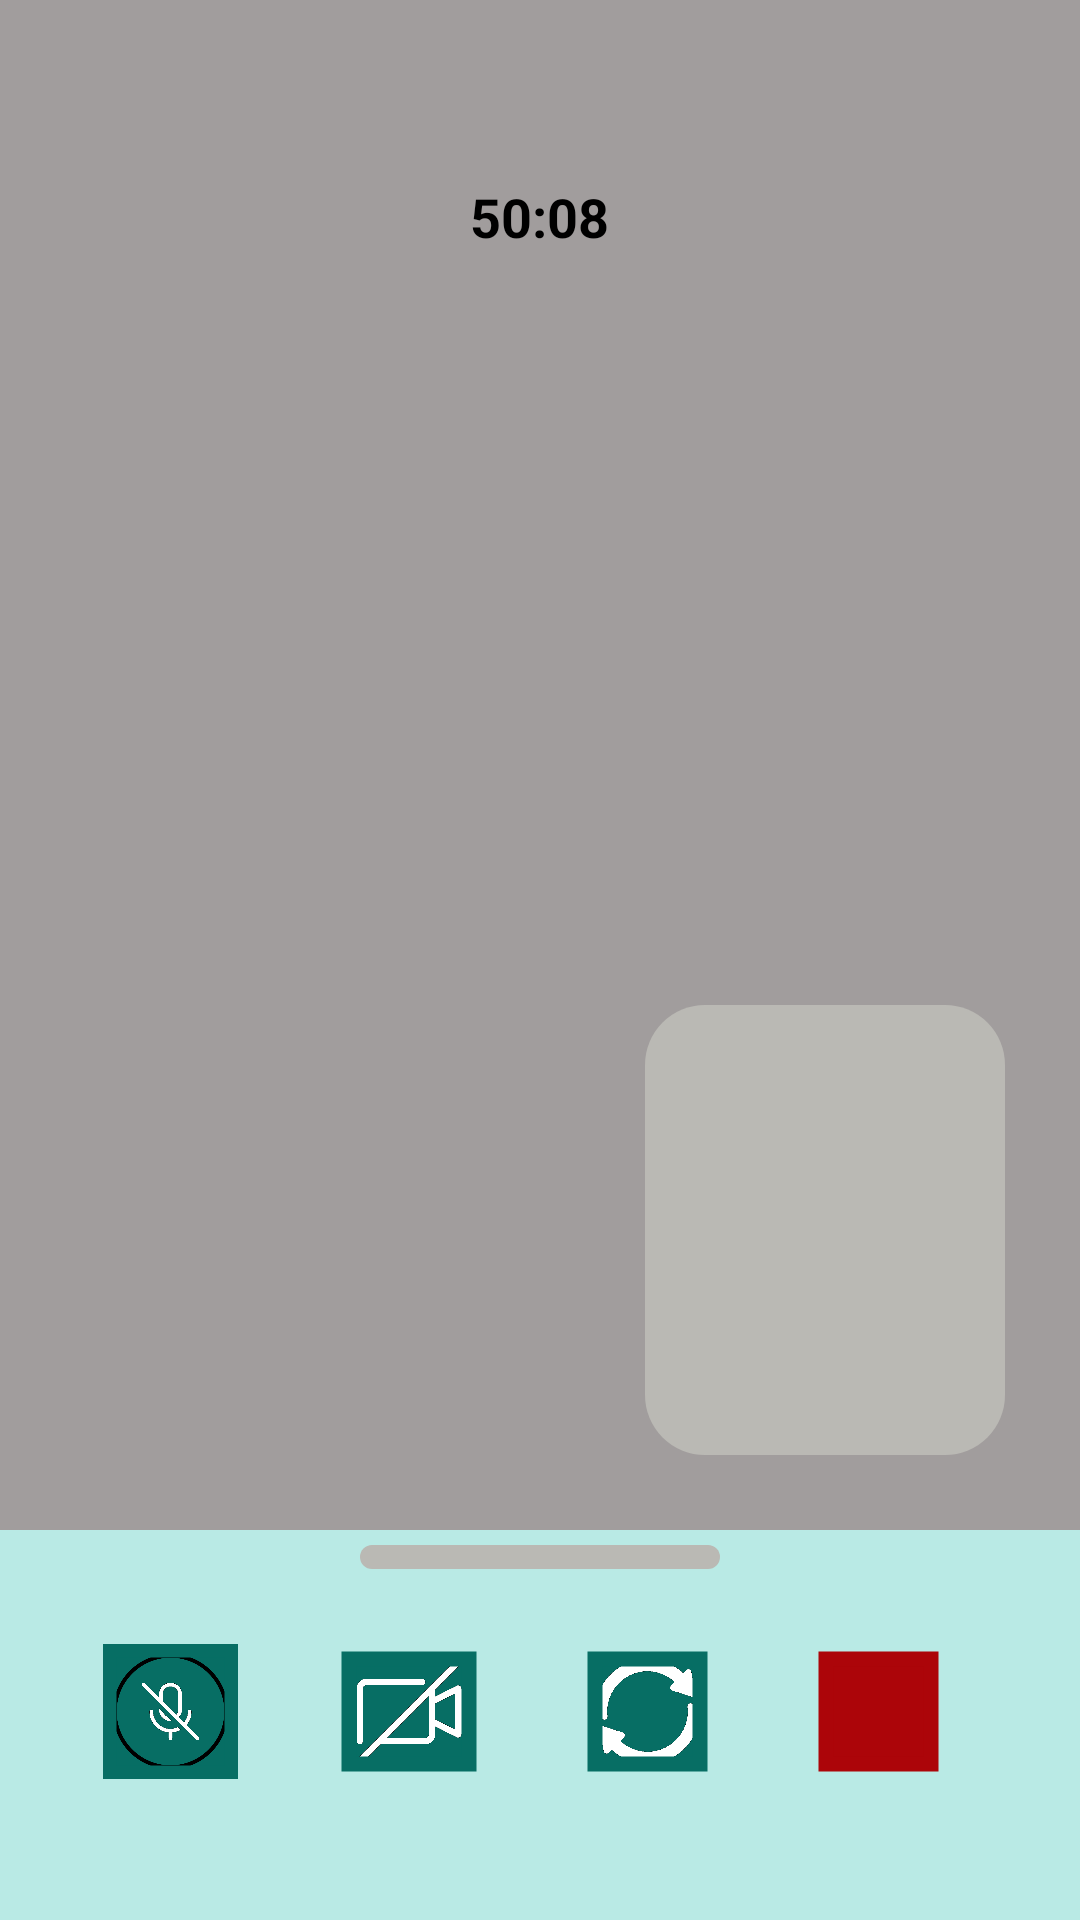

Point at icon controls on the screen. Image size 1080w x 1920h, points as (x=x, y=y).
mute: (x=170, y=1711)
no video: (x=409, y=1711)
refresh: (x=647, y=1711)
